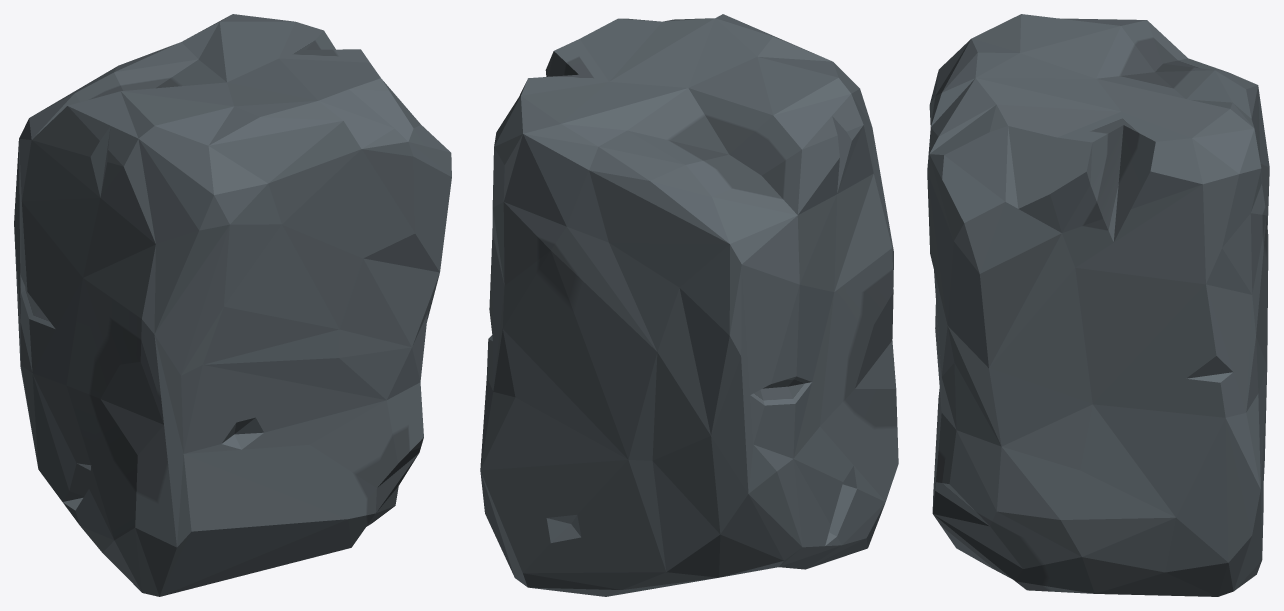
File: SM_Env_Stone_02.fbx
3 views of the same model, side by side, from view 1: azimuth 30°, elevation 25°; view 2: azimuth 150°, elevation 25°; view 3: azimuth 270°, elevation 25° (orthographic). The views are drawn at different scales.
Visible parts, largest first — view 1: SM_Env_Stone_02; view 2: SM_Env_Stone_02; view 3: SM_Env_Stone_02.
Part boxes in pixels (<box>): SM_Env_Stone_02: <box>14,14,451,596</box>; SM_Env_Stone_02: <box>480,14,898,596</box>; SM_Env_Stone_02: <box>927,14,1269,596</box>.
Bounding box in the file's own units: 161 × 228 × 146.
